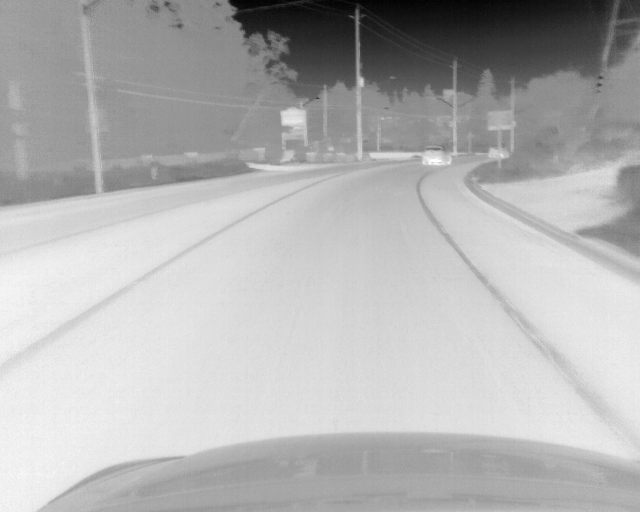car: (422, 145, 452, 167), (488, 146, 510, 158)
